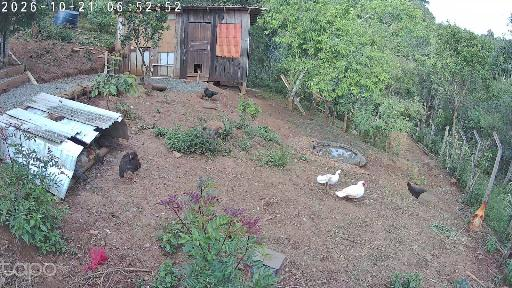frango: (89, 146, 105, 165), (97, 133, 115, 149), (74, 149, 87, 168), (72, 166, 86, 183)
galinha: (117, 151, 140, 185), (406, 181, 428, 203), (204, 87, 218, 102)
galo: (468, 199, 487, 236)
pato: (335, 180, 365, 203), (315, 169, 342, 190)
